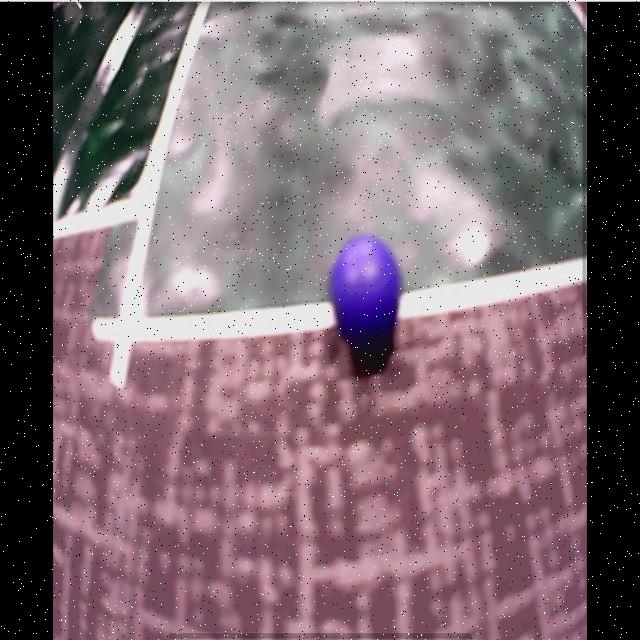ball: (333, 240, 402, 341)
